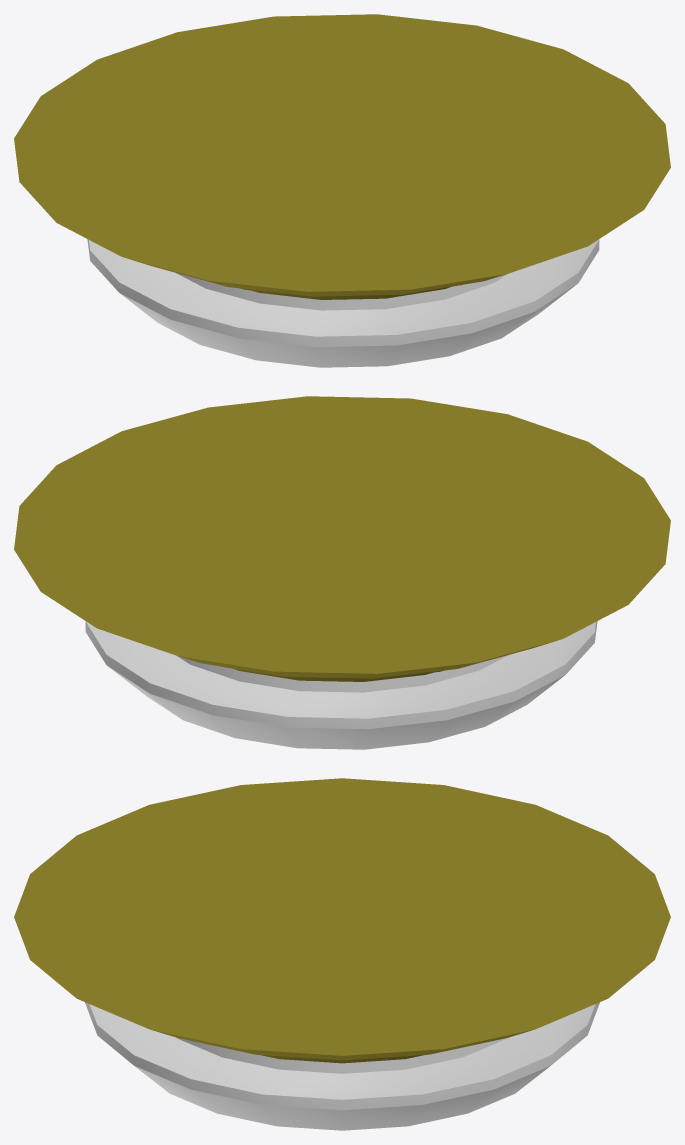
The model's file is mrlight.fbx.
3 renders of one model, top to bottom at view 1: azimuth 30°, elevation 25°; view 2: azimuth 150°, elevation 25°; view 3: azimuth 270°, elevation 25°, orthographic.
Parts seen in each view (by area): view 1: pCylinder1; view 2: pCylinder1; view 3: pCylinder1.
Boxes of the visible parts, left/top/right/bottom form: pCylinder1: left=14, top=14, right=670, bottom=367; pCylinder1: left=14, top=396, right=670, bottom=749; pCylinder1: left=14, top=778, right=670, bottom=1130.
Bounding box in the file's own units: 25.08 × 7.56 × 25.08.
